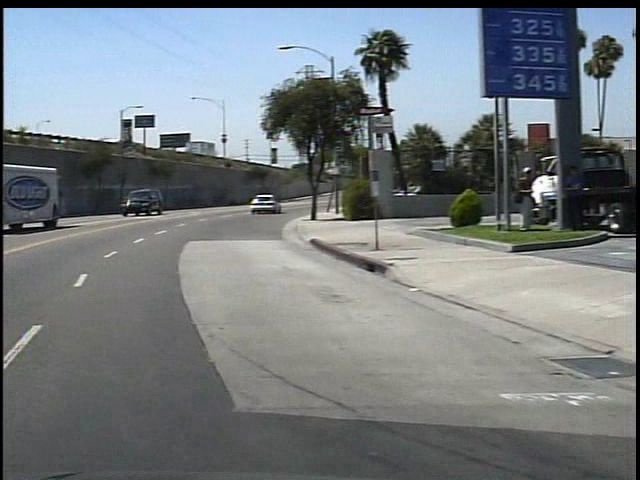person: (504, 165, 531, 233)
